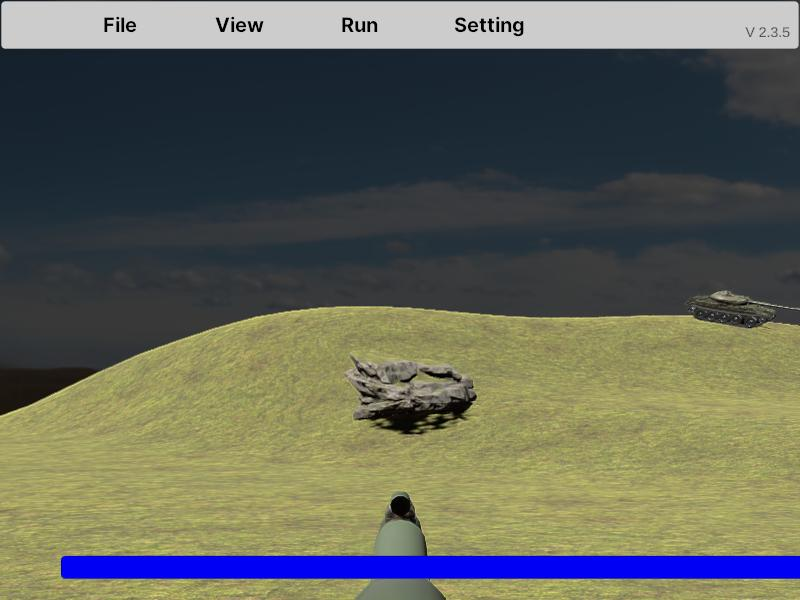Tank: (686, 290, 799, 329)
